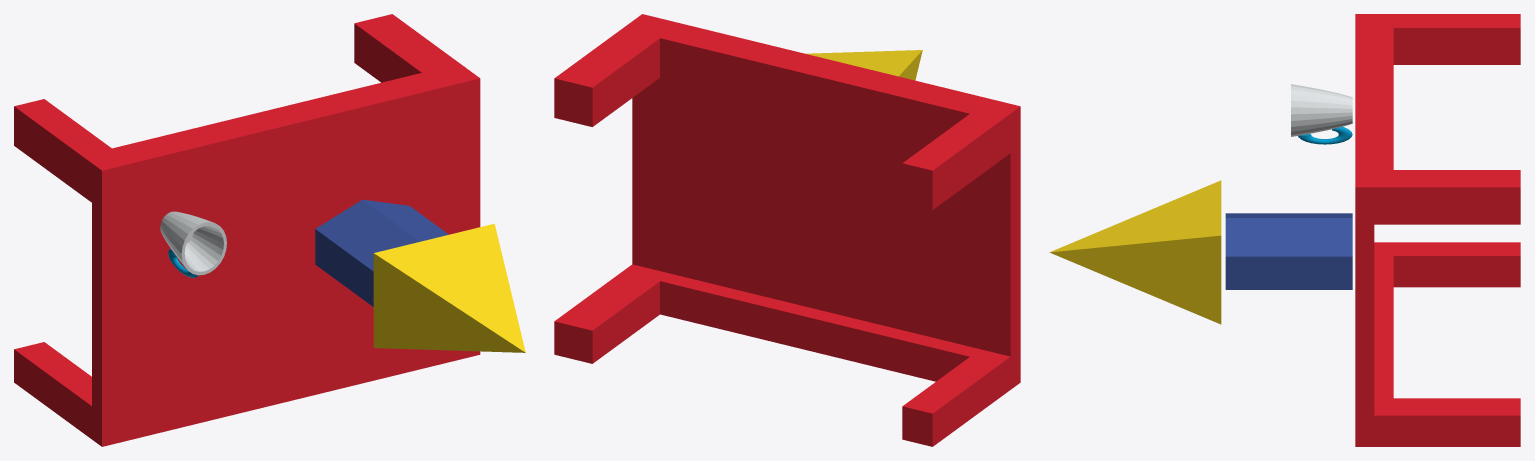
The model's file is tinker.obj.
The picture shows the model from 3 angles, left to right: view 1: azimuth 30°, elevation 25°; view 2: azimuth 150°, elevation 25°; view 3: azimuth 270°, elevation 25°; orthographic projection. The views are drawn at different scales.
Parts seen in each view (by area): view 1: group_0_15277357, group_0_16768282, group_0_3888547, group_0_14541540; view 2: group_0_15277357, group_0_16768282; view 3: group_0_15277357, group_0_16768282, group_0_3888547, group_0_14541540, group_0_40919.
Part boxes in pixels (<box>): group_0_15277357: <box>14,14,480,446</box>; group_0_16768282: <box>373,223,525,352</box>; group_0_3888547: <box>315,199,448,306</box>; group_0_14541540: <box>160,211,226,275</box>; group_0_15277357: <box>554,14,1020,446</box>; group_0_16768282: <box>806,50,922,80</box>; group_0_15277357: <box>1355,14,1520,446</box>; group_0_16768282: <box>1049,180,1221,324</box>; group_0_3888547: <box>1225,213,1352,289</box>; group_0_14541540: <box>1291,84,1352,136</box>; group_0_40919: <box>1298,126,1352,144</box>.
Size of the model in its own units: 100 by 69.86 by 115.
